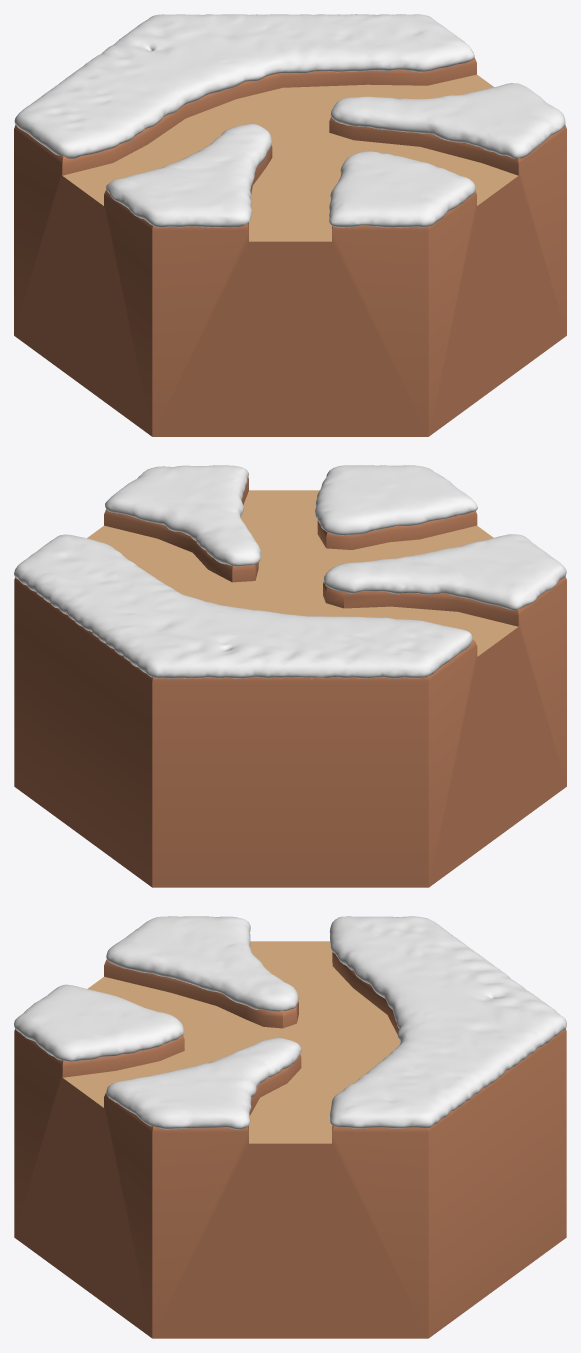
File: hex_rock_roadK.fbx
3 views of the same model, one above another, from view 1: azimuth 30°, elevation 25°; view 2: azimuth 150°, elevation 25°; view 3: azimuth 270°, elevation 25° (orthographic).
Parts seen in each view (by area): view 1: hex_rock_roadK.001, SnowBall.001, hex_rock_roadK; view 2: hex_rock_roadK.001, SnowBall.001, hex_rock_roadK; view 3: hex_rock_roadK.001, SnowBall.001, hex_rock_roadK.
Part boxes in pixels (box(x1,y1,x2,y2)): hex_rock_roadK.001: box(14, 57, 566, 436); SnowBall.001: box(14, 14, 565, 227); hex_rock_roadK: box(62, 74, 518, 241); hex_rock_roadK.001: box(14, 477, 566, 887); SnowBall.001: box(14, 465, 566, 678); hex_rock_roadK: box(87, 490, 518, 656); hex_rock_roadK.001: box(14, 952, 566, 1338); SnowBall.001: box(14, 916, 566, 1129); hex_rock_roadK: box(63, 941, 400, 1143).
Size of the model in its own units: 203 by 104 by 231.
